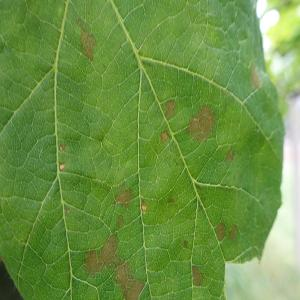Folha: (0, 0, 286, 299)
Fungo: (160, 100, 216, 144), (82, 232, 118, 276), (115, 260, 146, 300), (186, 104, 216, 144), (76, 17, 96, 61), (160, 99, 176, 143), (82, 248, 103, 277), (114, 261, 130, 296), (114, 183, 134, 209), (250, 64, 261, 90), (214, 220, 226, 242), (164, 99, 176, 119), (192, 264, 202, 286), (58, 144, 66, 170), (228, 223, 238, 241), (226, 148, 234, 164), (160, 129, 169, 143), (117, 214, 124, 228), (141, 200, 147, 212), (167, 196, 175, 204), (59, 162, 65, 170), (59, 144, 65, 152), (64, 206, 70, 214), (183, 240, 187, 248)
